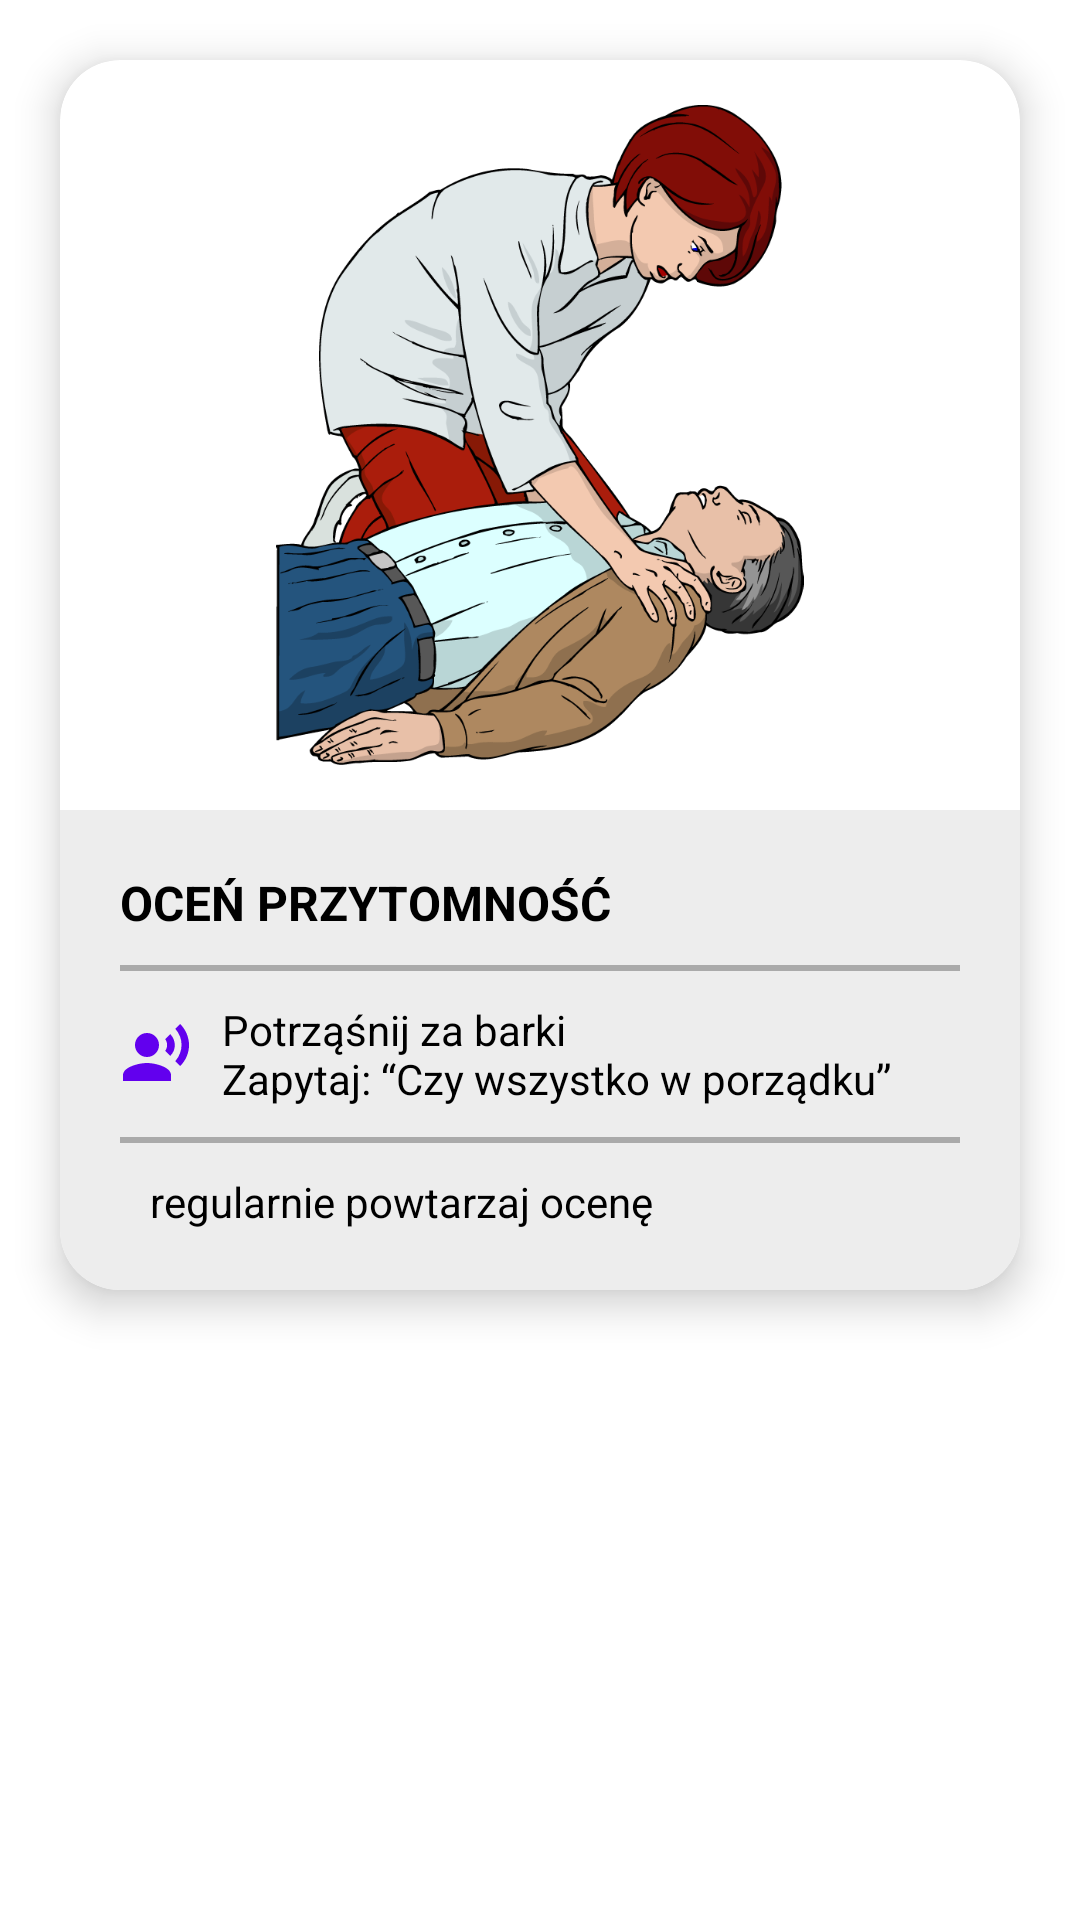

Icon click points for this 1080 × 1920 phone screenshot, format (x,y):
account voice: (156,1052)
